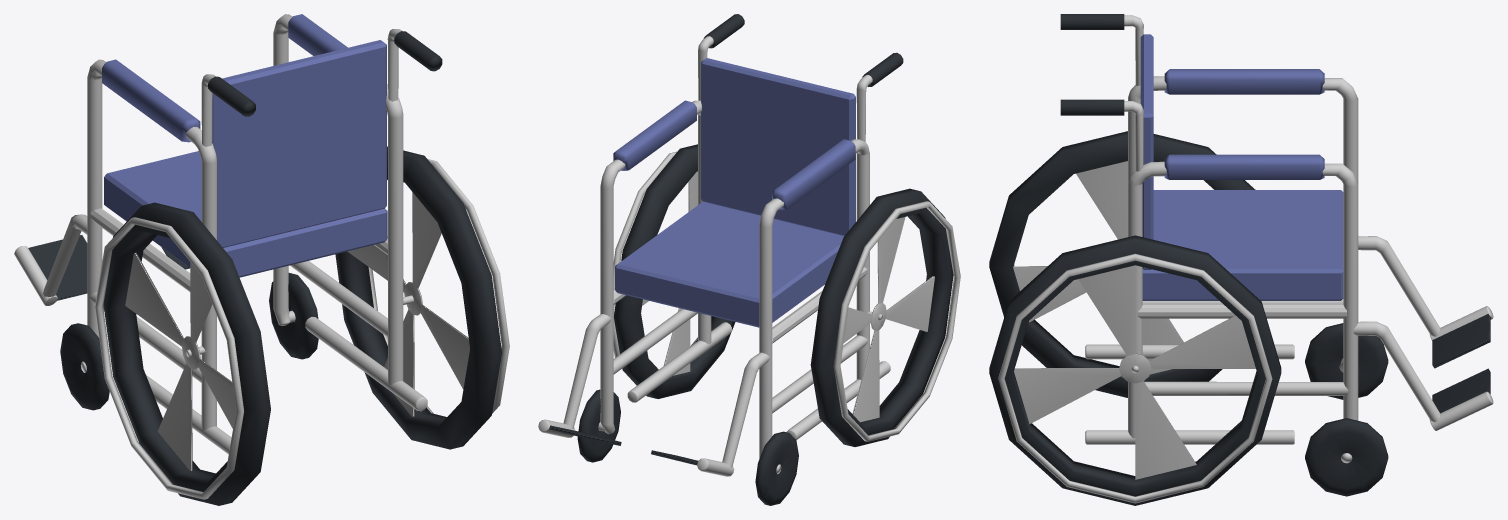
Rendered from wheelchair.fbx.
The picture shows the model from 3 angles, left to right: view 1: azimuth 30°, elevation 25°; view 2: azimuth 150°, elevation 25°; view 3: azimuth 270°, elevation 25°; orthographic projection. The views are drawn at different scales.
Parts seen in each view (by area): view 1: wheelchair, wheel; view 2: wheelchair, wheel; view 3: wheelchair, wheel.
Boxes of the visible parts, x1,y1,x2,y2 form: wheelchair: (14,14,442,454); wheel: (95,146,509,505); wheelchair: (538,14,903,505); wheel: (613,144,960,446); wheelchair: (1060,14,1493,496); wheel: (989,131,1281,505).
Size of the model in its own units: 67.86 by 99.1 by 115.
